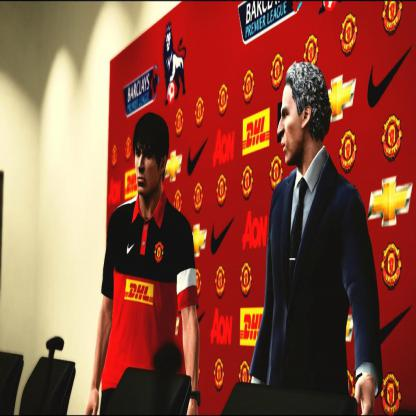face: (279, 83, 302, 163), (136, 140, 160, 195)
